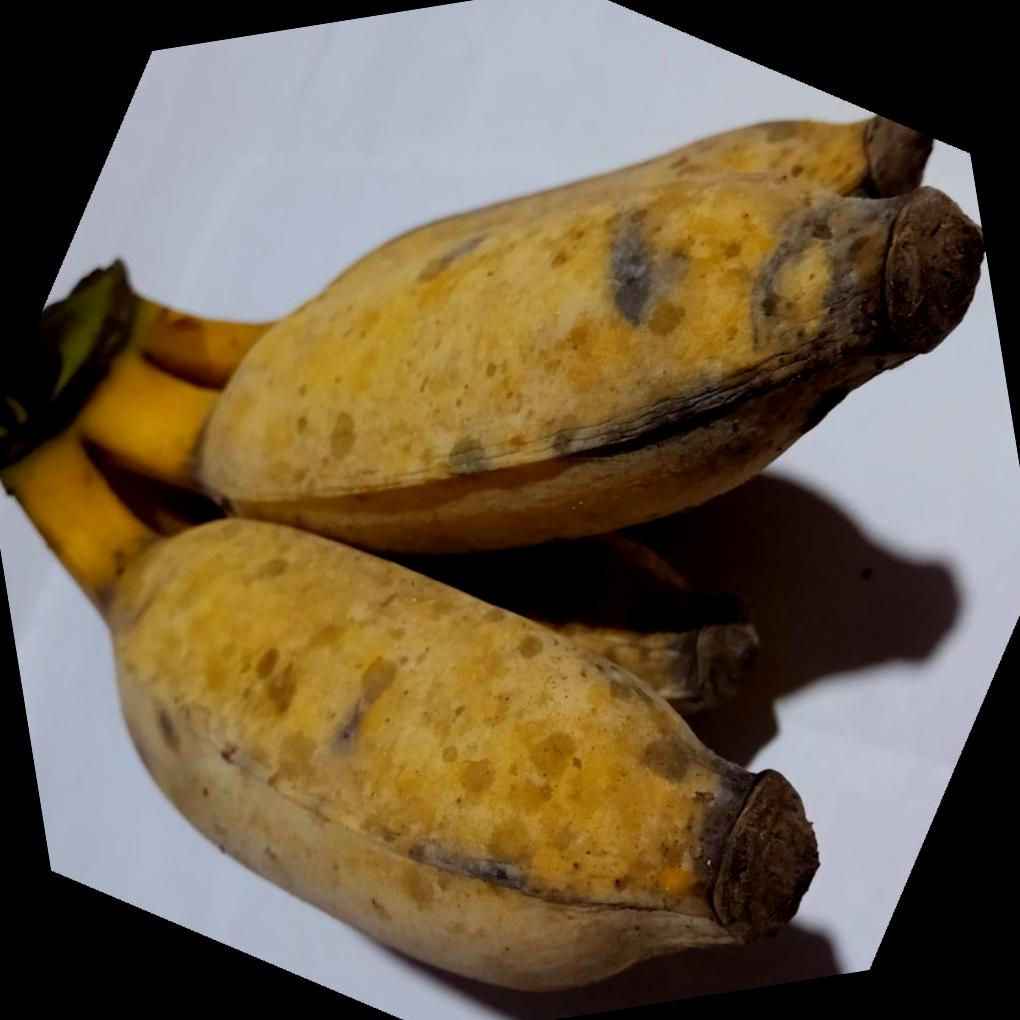Banana Ripe: (60, 400, 882, 1020), (131, 110, 1020, 614)
